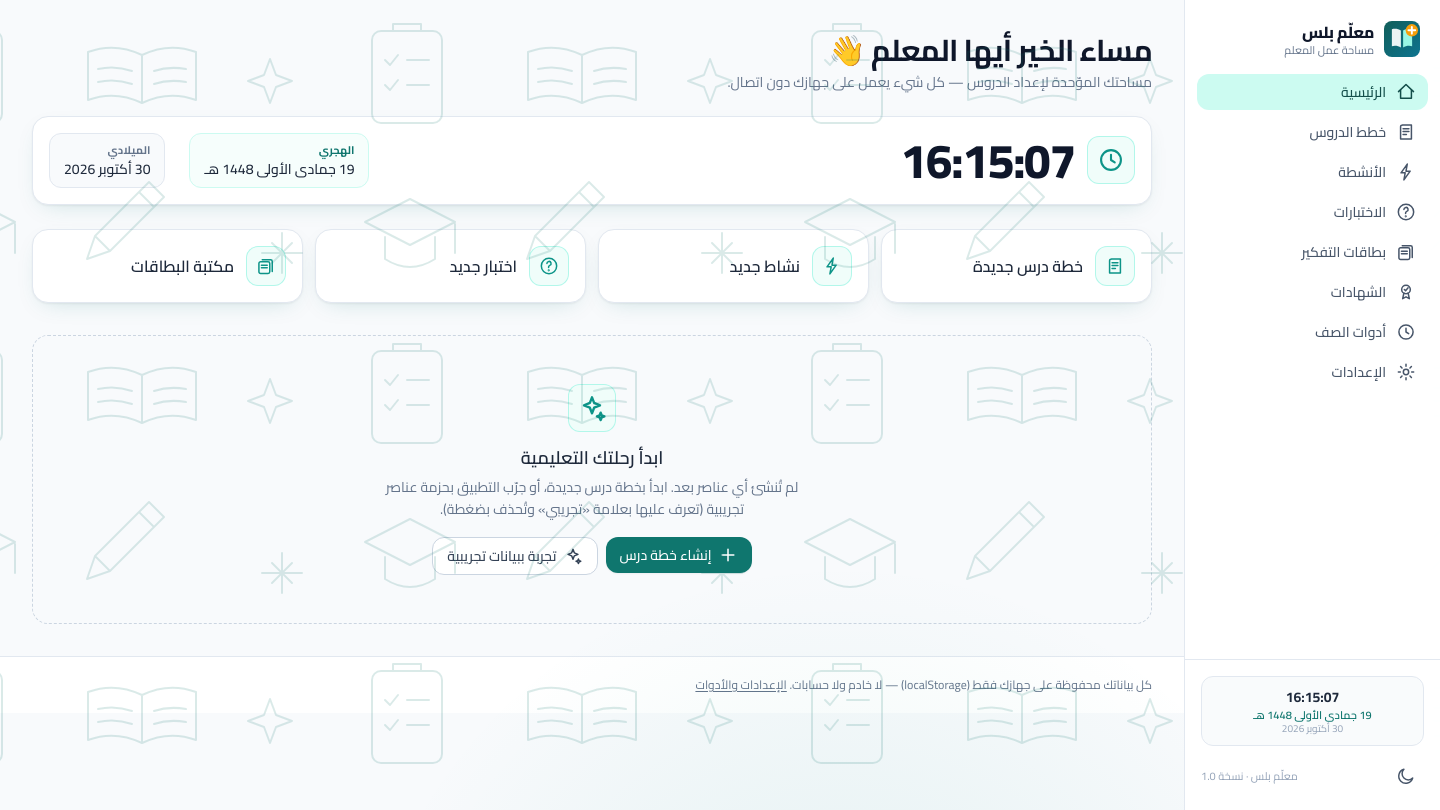
it: قائمة الشهادات › حذف شهادة يزيلها من القائمة ومن localStorage
Click the link "الشهادات". click: (1373, 292)
box: left=1331, top=279, right=1416, bottom=305
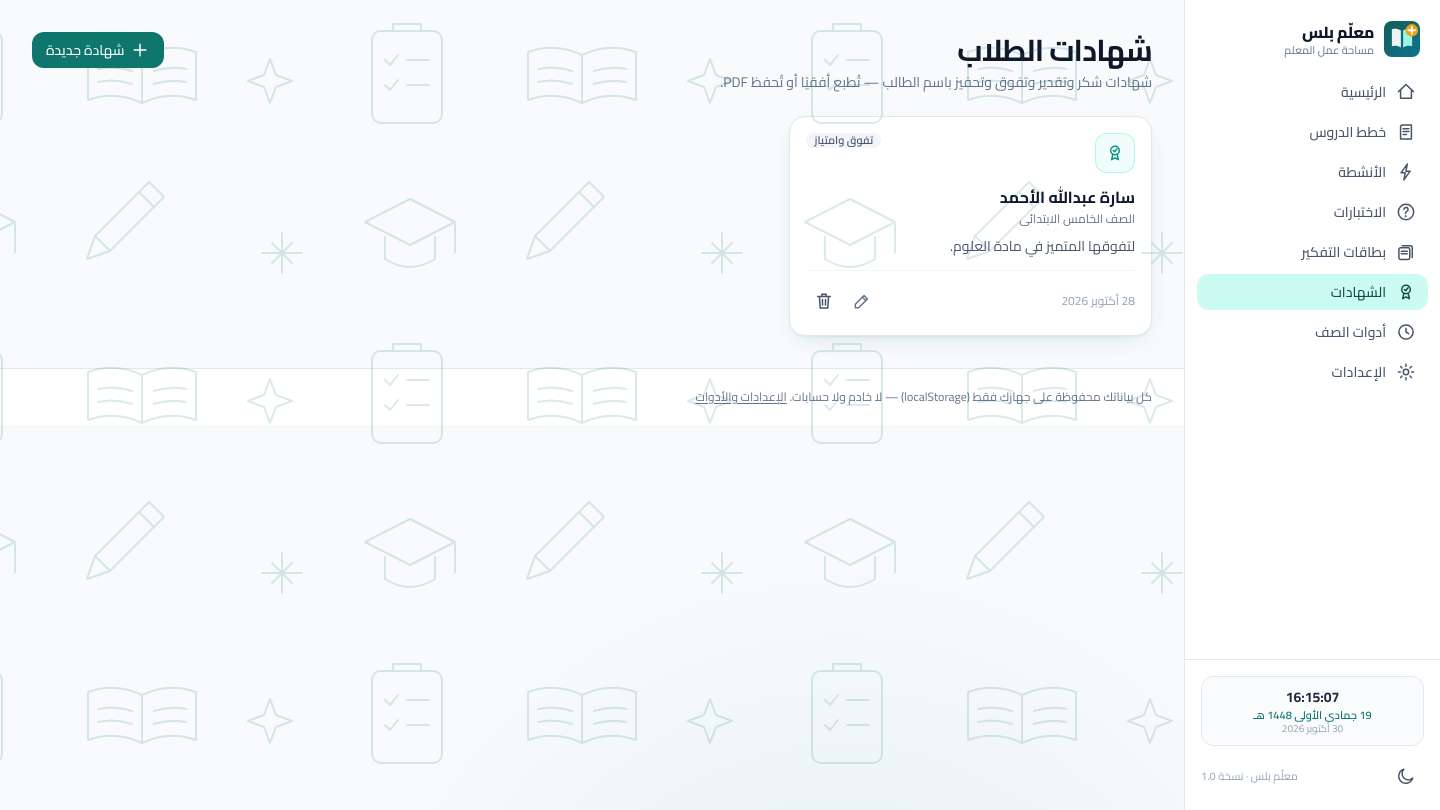
Click the button named "حذف شهادة سارة". click: (824, 301)
box: left=806, top=283, right=842, bottom=319
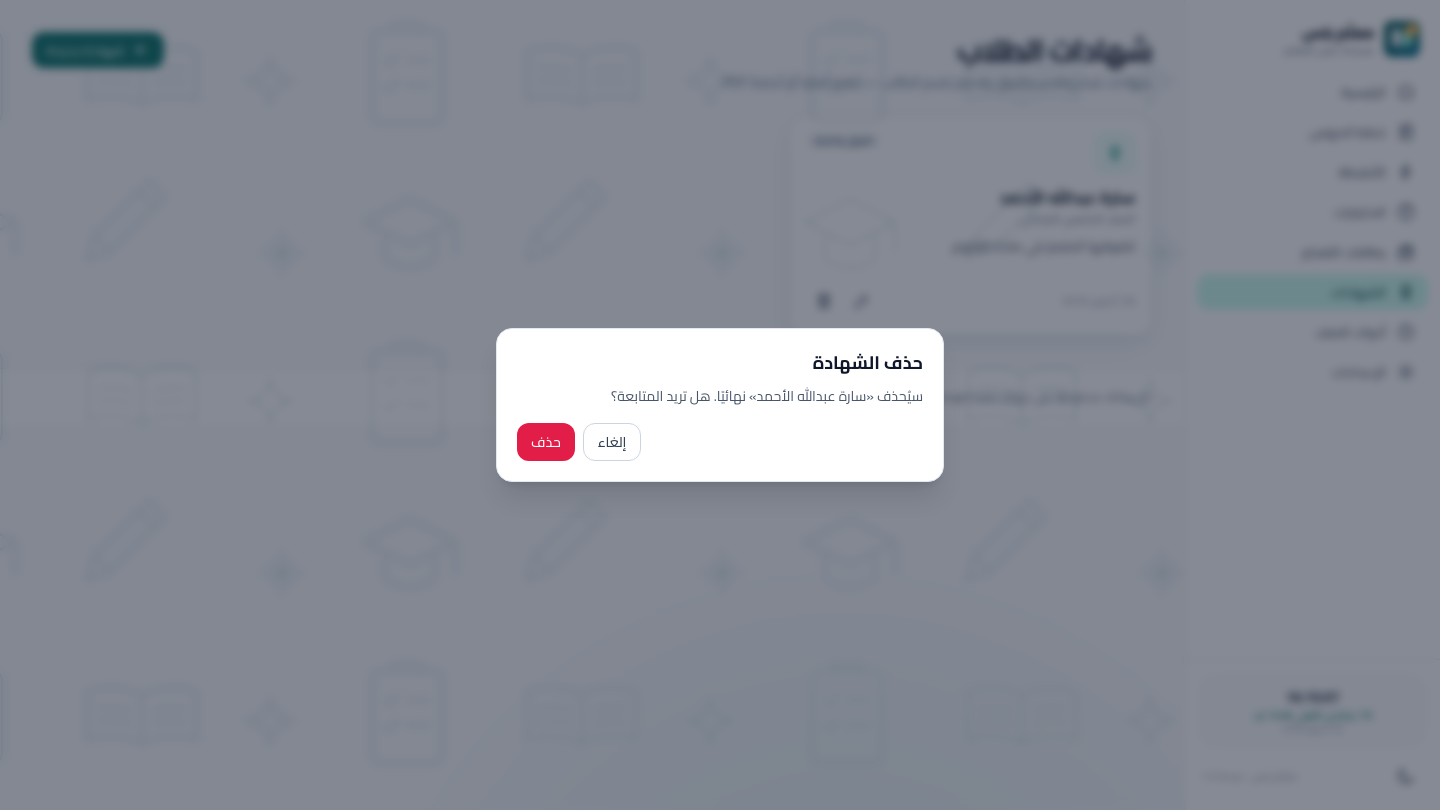
Click the button "حذف". click: (546, 442)
box: left=517, top=423, right=575, bottom=461
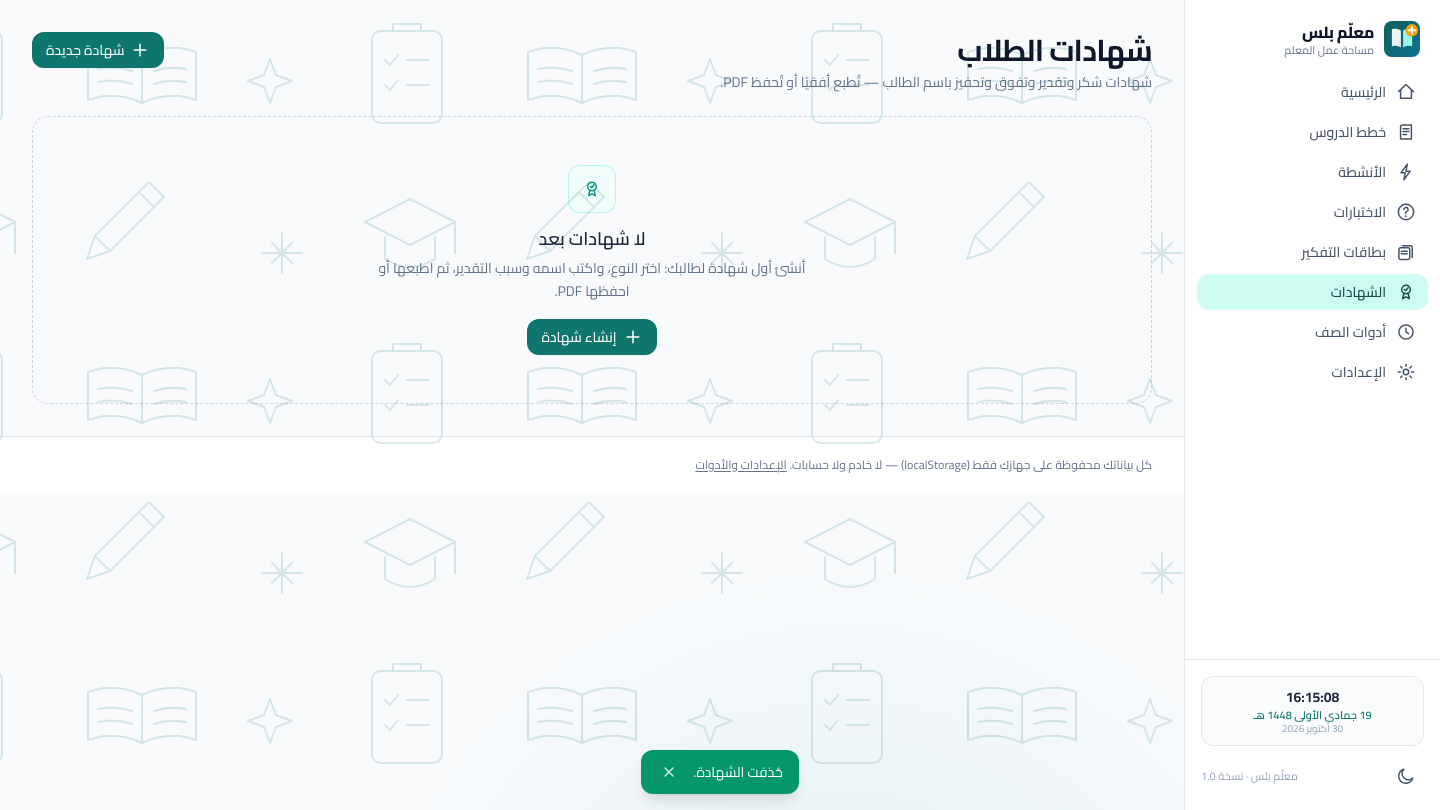
Now the heading "سارة عبدالله الأحمد" is gone
